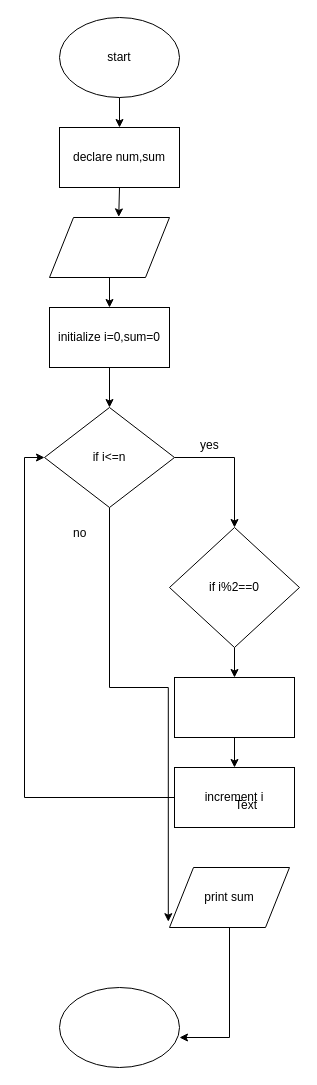
This 317x1085 diagram has some shape labels left out. Here are the shapes that lost their labels. From the top down, the centre of each, then its label:
At [109,247]: "read num".
At [234,707]: "sum=sum+1".
At [119,1027]: "stop".
